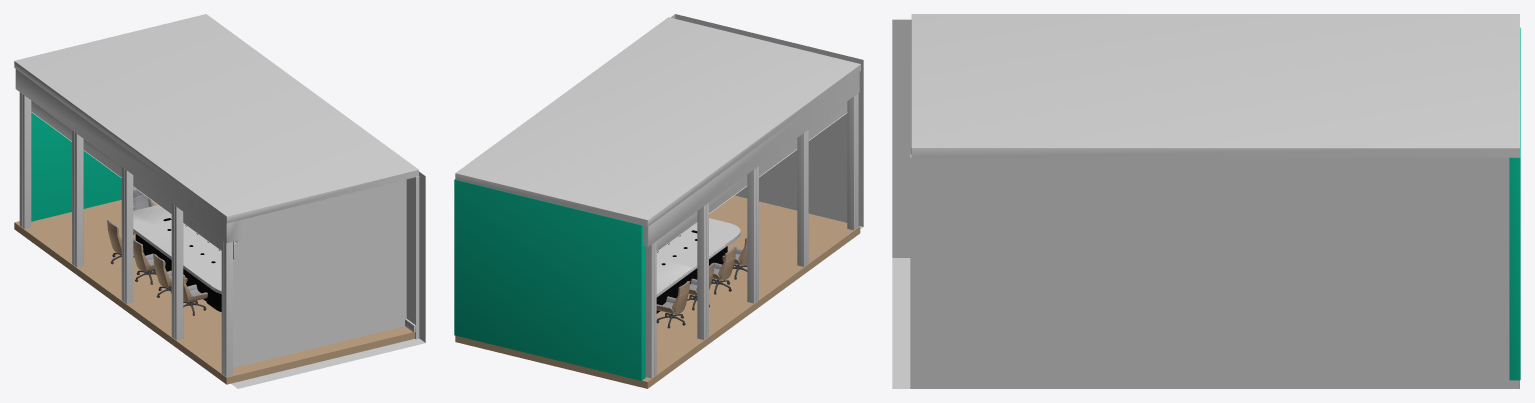
The picture shows the model from 3 angles, left to right: view 1: azimuth 30°, elevation 25°; view 2: azimuth 150°, elevation 25°; view 3: azimuth 270°, elevation 25°; orthographic projection. The views are drawn at different scales.
Visible parts, largest first — view 1: Mesh_body_351, Mesh_body_340, Mesh_body_350, Mesh_body_337, Mesh_body_349, Mesh_body_150, Mesh_body_262, Mesh_body_336, Mesh_body_345, Mesh_body_343, Mesh_body_341, Mesh_body_347 (+7 smaller); view 2: Mesh_body_351, Mesh_body_337, Mesh_body_350, Mesh_body_340, Mesh_body_349, Mesh_body_150, Mesh_body_336, Mesh_body_348, Mesh_body_344, Mesh_body_342, Mesh_body_346, Mesh_body_345 (+4 smaller); view 3: Mesh_body_262, Mesh_body_351, Mesh_body_340, Mesh_body_337.
Boxes of the visible parts, x1=… form: Mesh_body_351: x1=14, y1=14, x2=418, y2=223; Mesh_body_340: x1=221, y1=171, x2=425, y2=388; Mesh_body_350: x1=14, y1=200, x2=414, y2=384; Mesh_body_337: x1=31, y1=112, x2=133, y2=221; Mesh_body_349: x1=15, y1=69, x2=241, y2=243; Mesh_body_150: x1=133, y1=205, x2=221, y2=294; Mesh_body_262: x1=406, y1=176, x2=419, y2=339; Mesh_body_336: x1=31, y1=101, x2=237, y2=259; Mesh_body_345: x1=74, y1=132, x2=83, y2=267; Mesh_body_343: x1=124, y1=169, x2=133, y2=303; Mesh_body_341: x1=174, y1=205, x2=183, y2=340; Mesh_body_347: x1=22, y1=94, x2=31, y2=228; Mesh_body_351: x1=455, y1=17, x2=860, y2=226; Mesh_body_337: x1=454, y1=179, x2=645, y2=380; Mesh_body_350: x1=455, y1=195, x2=860, y2=388; Mesh_body_340: x1=671, y1=14, x2=863, y2=230; Mesh_body_349: x1=643, y1=72, x2=859, y2=246; Mesh_body_150: x1=656, y1=218, x2=740, y2=297; Mesh_body_336: x1=656, y1=101, x2=847, y2=251; Mesh_body_348: x1=645, y1=112, x2=847, y2=378; Mesh_body_344: x1=747, y1=168, x2=756, y2=303; Mesh_body_342: x1=797, y1=131, x2=806, y2=266; Mesh_body_346: x1=697, y1=205, x2=706, y2=339; Mesh_body_345: x1=706, y1=203, x2=708, y2=338; Mesh_body_262: x1=910, y1=154, x2=1519, y2=388; Mesh_body_351: x1=911, y1=14, x2=1519, y2=157; Mesh_body_340: x1=892, y1=19, x2=911, y2=388; Mesh_body_337: x1=1509, y1=27, x2=1520, y2=380.
Size of what is drawn, in the model's own units: 7.17 by 5.98 by 14.13.
